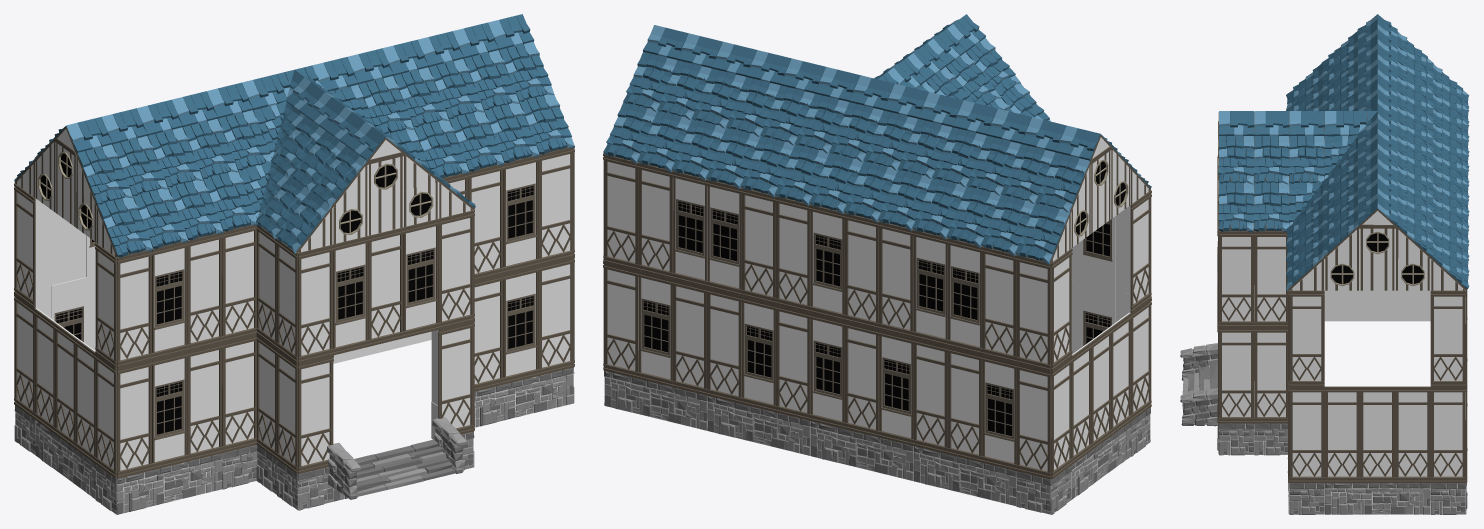
Rendered from House_16_parts.fbx.
3 renders of one model, left to right at view 1: azimuth 30°, elevation 25°; view 2: azimuth 150°, elevation 25°; view 3: azimuth 270°, elevation 25°, orthographic. The views are drawn at different scales.
Visible parts, largest first — view 1: STAIRS_02_2, WINDOW_04_5, WALL_01_14, WALL_01_16, WALL_01_15, WINDOW_04_6, WINDOW_04_4, WINDOW_04_11, WALL_01_40, WALL_01_12, WINDOW_04_3, WALL_01_41 (+89 smaller); view 2: WALL_01_28, WALL_01_53, WALL_01_24, WALL_01_55, WALL_01_27, WALL_01_25, WALL_01_49, WINDOW_04_17, WALL_01_56, WALL_01_30, WINDOW_04_16, WALL_01_31 (+84 smaller); view 3: WALL_01_47, WALL_01_43, WALL_01_45, WALL_01_46, WALL_01_42, WALL_01_44, WALL_01_48, FOUNDATION_02_34, FOUNDATION_02_29, WALL_01_34, WALL_01_33, WALL_01_35 (+69 smaller).
Part boxes in pixels (box(x1,y1,x2,y2)): STAIRS_02_2: box(327, 417, 466, 499); WINDOW_04_5: box(403, 219, 439, 337); WALL_01_14: box(298, 244, 333, 363); WALL_01_16: box(438, 210, 474, 329); WALL_01_15: box(368, 227, 404, 346); WINDOW_04_6: box(333, 236, 368, 355); WINDOW_04_4: box(152, 242, 187, 359); WINDOW_04_11: box(503, 156, 539, 273); WALL_01_40: box(538, 148, 574, 265); WALL_01_12: box(187, 233, 222, 351); WINDOW_04_3: box(152, 351, 187, 469); WALL_01_41: box(538, 257, 574, 375); WALL_01_28: box(1016, 255, 1051, 371); WALL_01_53: box(775, 196, 810, 312); WALL_01_24: box(1016, 363, 1051, 479); WALL_01_55: box(638, 162, 673, 278); WALL_01_27: box(844, 321, 879, 437); WALL_01_25: box(947, 346, 982, 462); WALL_01_49: box(775, 304, 810, 420); WINDOW_04_17: box(706, 179, 741, 295); WALL_01_56: box(603, 154, 638, 270); WALL_01_30: box(878, 221, 913, 337); WINDOW_04_16: box(810, 204, 844, 320); WALL_01_31: box(844, 213, 878, 329); WALL_01_47: box(1395, 386, 1430, 483); WALL_01_43: box(1289, 290, 1324, 387); WALL_01_45: box(1324, 386, 1359, 483); WALL_01_46: box(1360, 386, 1395, 483); WALL_01_42: box(1430, 290, 1465, 387); WALL_01_44: box(1289, 387, 1324, 483); WALL_01_48: box(1430, 387, 1465, 483); FOUNDATION_02_34: box(1324, 483, 1430, 514); FOUNDATION_02_29: box(1324, 290, 1430, 321); WALL_01_34: box(1219, 327, 1253, 423); WALL_01_33: box(1219, 231, 1253, 327); WALL_01_35: box(1254, 327, 1288, 423).
Size of the model in its own units: 1309 by 959 by 819.
